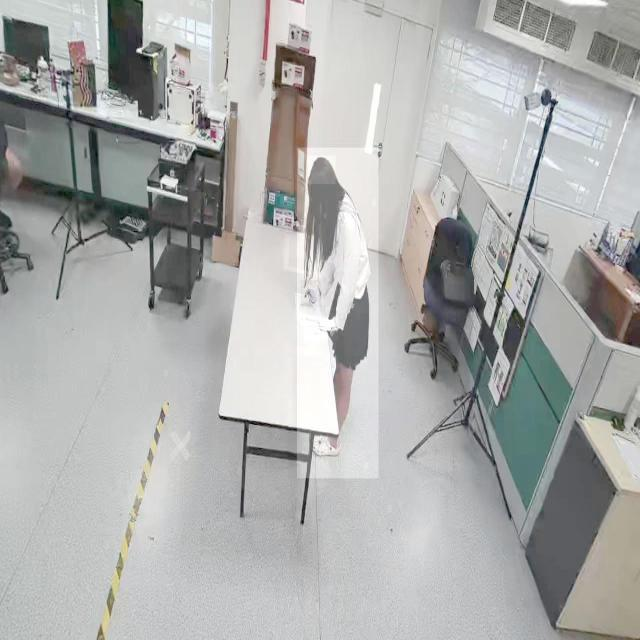hand_glove: (315, 307, 339, 342), (300, 280, 322, 307)
head_nohelmet: (308, 155, 336, 185)
person: (297, 148, 379, 479)
